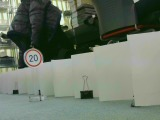speed_20: (22, 48, 43, 68)
